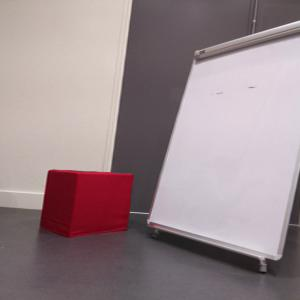big: (146, 23, 300, 263)
medium: (38, 169, 135, 235)
